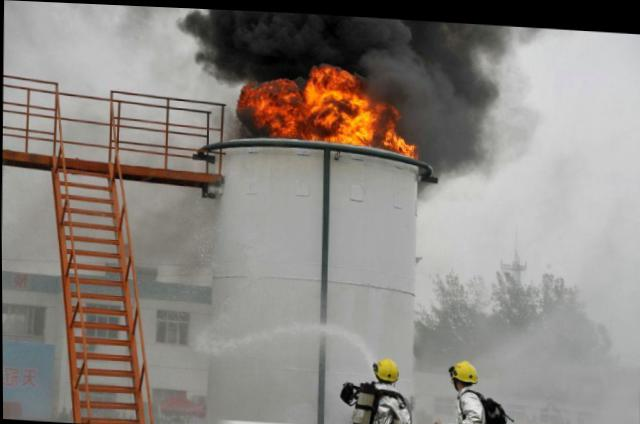fire: (268, 92, 399, 141), (307, 61, 371, 97), (238, 77, 271, 122), (268, 76, 299, 95), (397, 134, 417, 154)
